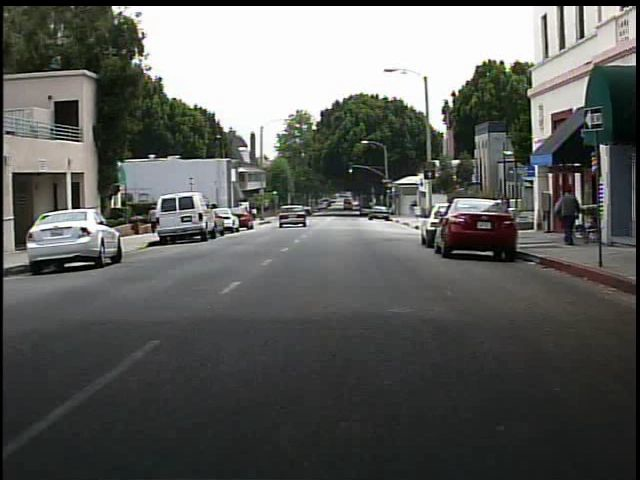person: (549, 184, 583, 249), (148, 204, 166, 237)
